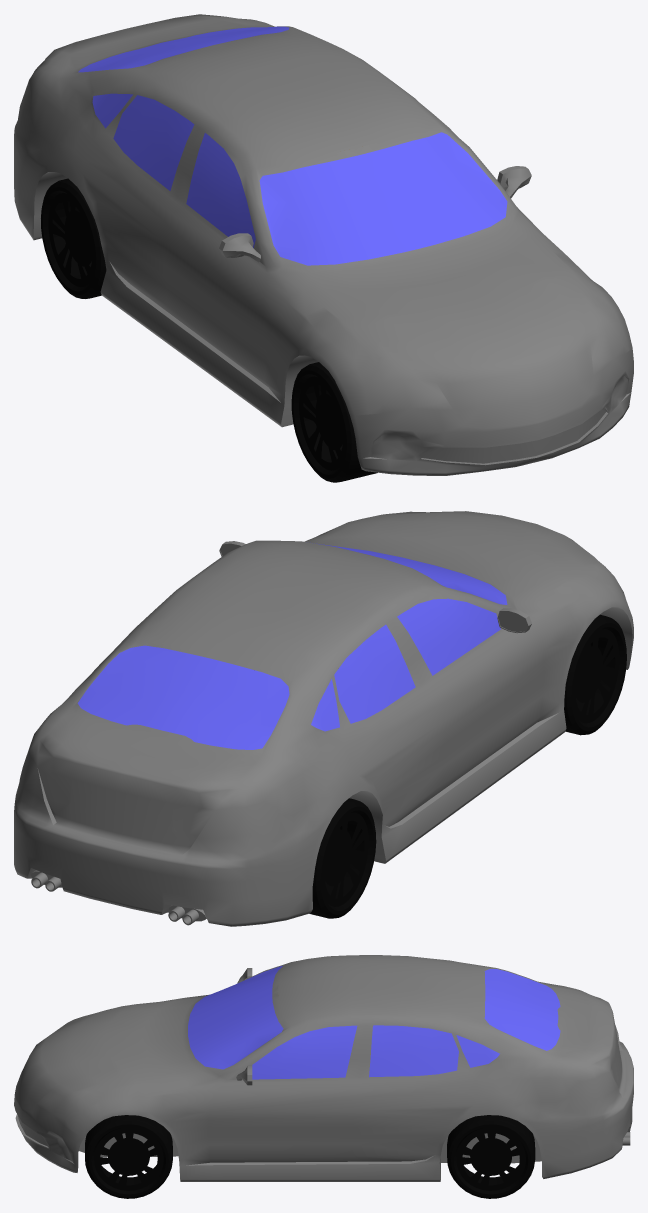
File: R3DP_Infinity_FreeCar.FBX
3 renders of one model, top to bottom at view 1: azimuth 30°, elevation 25°; view 2: azimuth 150°, elevation 25°; view 3: azimuth 270°, elevation 25°, orthographic. The views are drawn at different scales.
Parts seen in each view (by area): view 1: IinfinityM45_blue, FR, RR; view 2: IinfinityM45_blue, RR, FR; view 3: IinfinityM45_blue, LR, LF.
Boxes of the visible parts, x1,y1,x2,y2 form: IinfinityM45_blue: (14, 14, 633, 475); FR: (291, 362, 377, 482); RR: (41, 178, 106, 298); IinfinityM45_blue: (14, 511, 633, 926); RR: (309, 798, 376, 918); FR: (564, 614, 626, 735); IinfinityM45_blue: (14, 955, 633, 1181); LR: (447, 1115, 535, 1198); LF: (85, 1115, 172, 1198).
Size of the model in its own units: 6.75 by 4.91 by 16.21.
